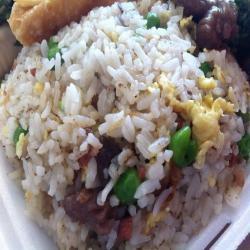rice: (5, 21, 243, 242)
